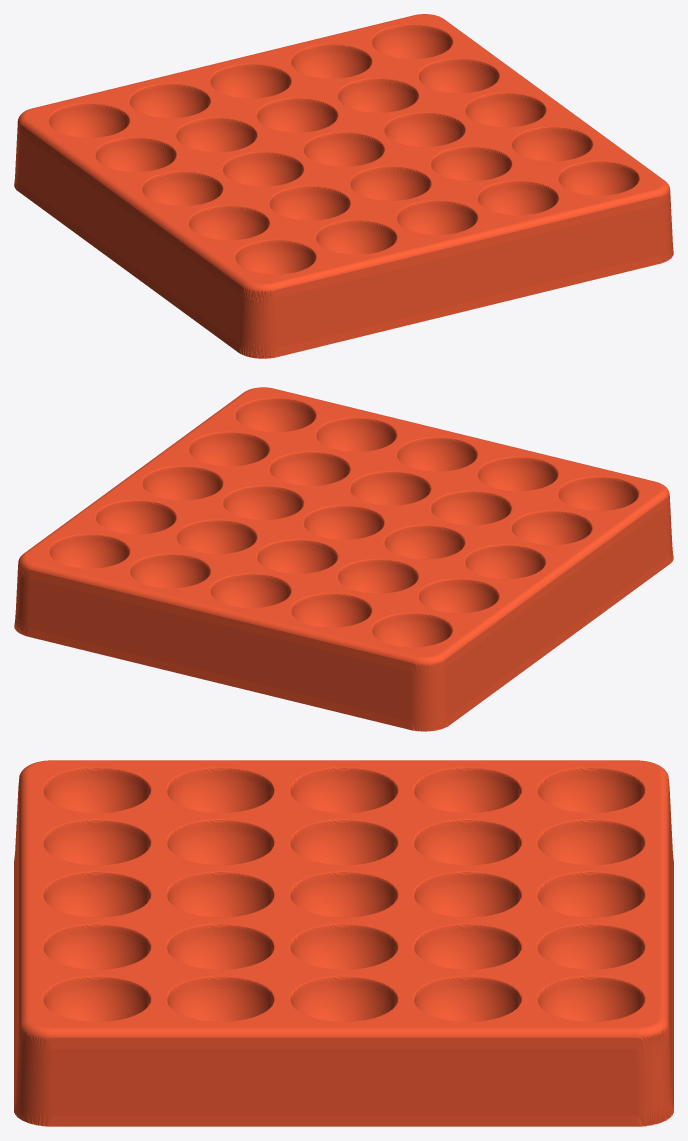
File: mold.glb
The picture shows the model from 3 angles, top to bottom: view 1: azimuth 30°, elevation 25°; view 2: azimuth 150°, elevation 25°; view 3: azimuth 270°, elevation 25°; orthographic projection. The views are drawn at different scales.
Parts seen in each view (by area): view 1: geometry_0; view 2: geometry_0; view 3: geometry_0.
Part boxes in pixels (x1,y1,x2,y2): geometry_0: (14,14,673,358); geometry_0: (14,387,673,731); geometry_0: (14,760,673,1126).
Size of the model in its own units: 0.1584 by 0.0246 by 0.1584.
